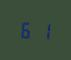one: (35, 20, 50, 40)
six: (19, 19, 34, 39)
